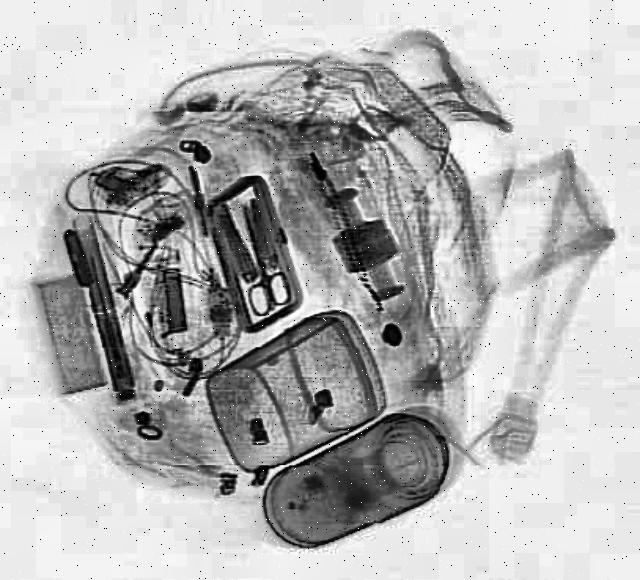Scissors: (224, 200, 300, 316)
